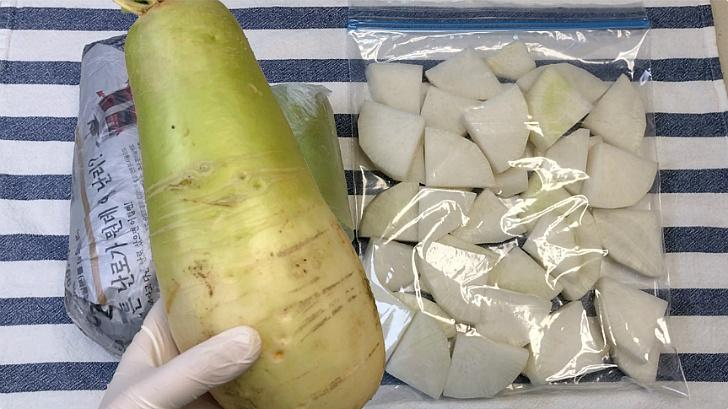radish: (139, 0, 444, 261)
